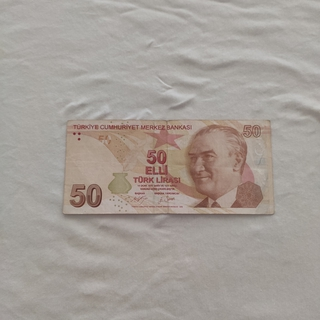50TLFront: (62, 119, 276, 215)
